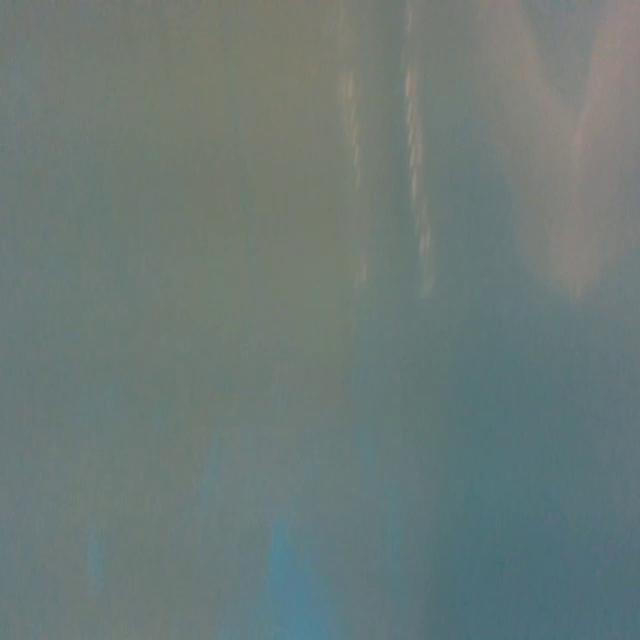plastic bottle: (332, 0, 444, 307)
